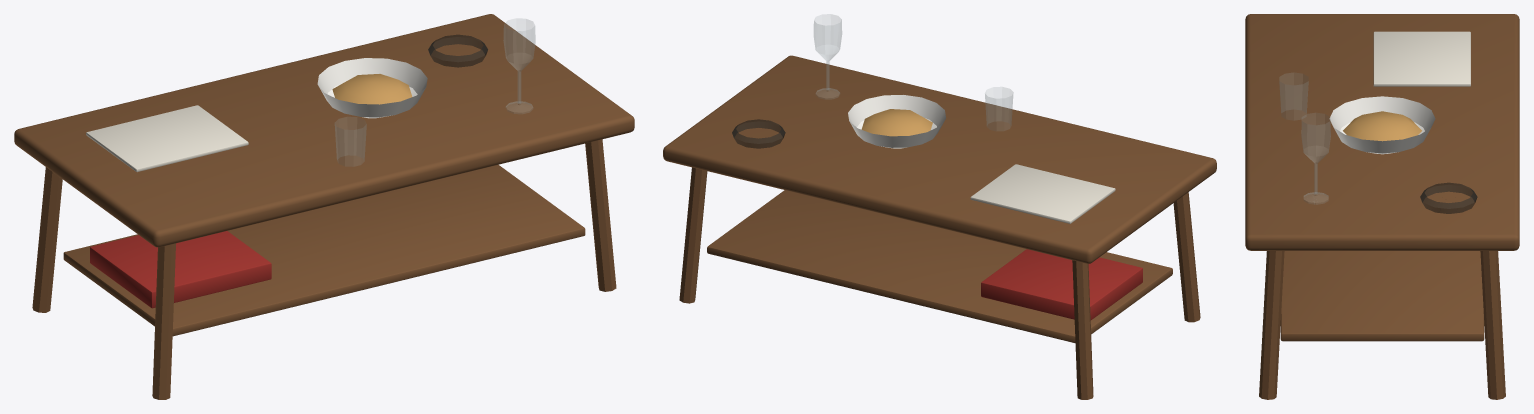
File: mae_coffee_table.glb
The picture shows the model from 3 angles, left to right: view 1: azimuth 30°, elevation 25°; view 2: azimuth 150°, elevation 25°; view 3: azimuth 270°, elevation 25°; orthographic projection. The views are drawn at different scales.
Parts seen in each view (by area): view 1: mae_coffee_table; view 2: mae_coffee_table; view 3: mae_coffee_table.
Part boxes in pixels (box(x1,y1,x2,y2)): mae_coffee_table: box(14, 14, 634, 399); mae_coffee_table: box(663, 14, 1216, 399); mae_coffee_table: box(1245, 14, 1519, 399).
Size of the model in its own units: 1.2 by 0.6217 by 0.62.
